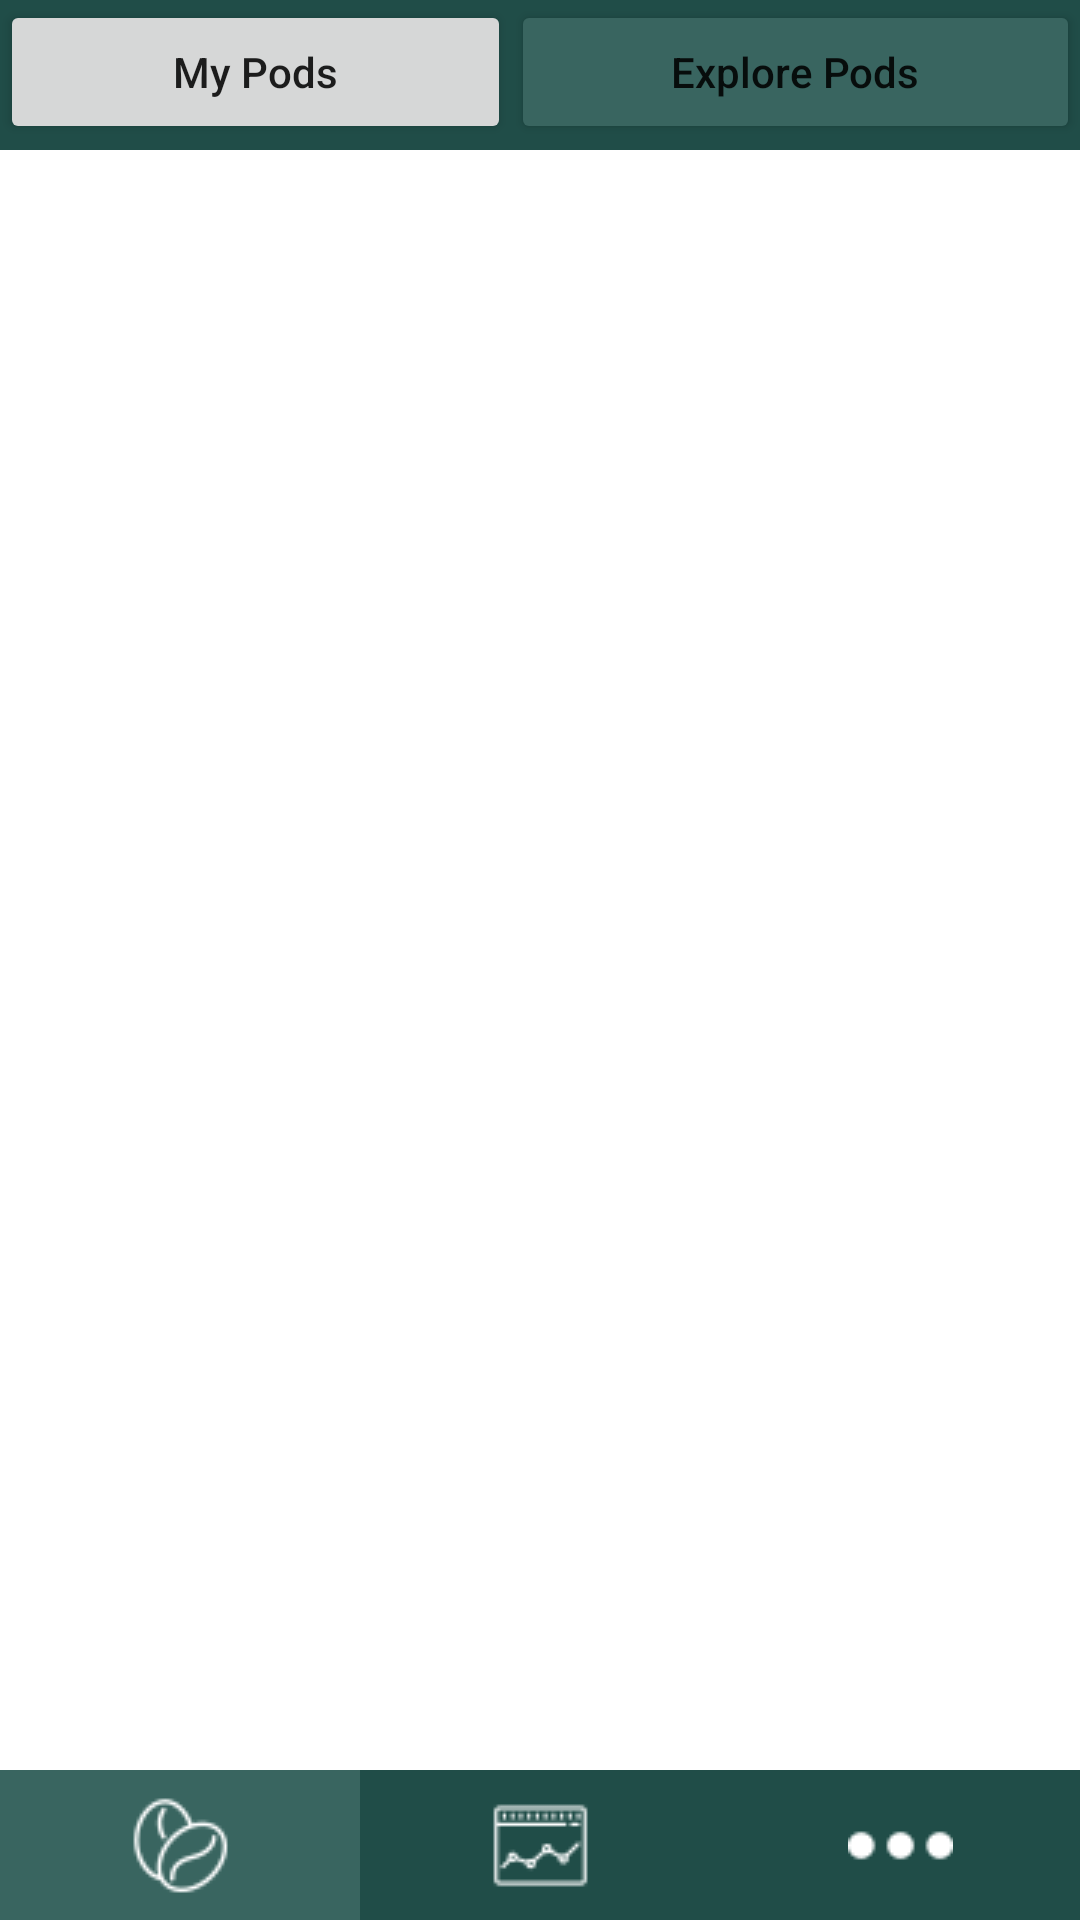

Screen size 1080px×1920px. Icon name, then its box in pixels as [x1, y1, x2, y2]:
bottomnav more: [848, 1831, 953, 1860]
